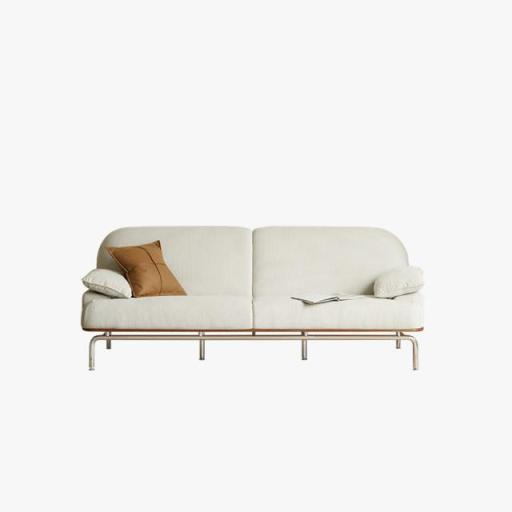sofa: (83, 204, 449, 410)
